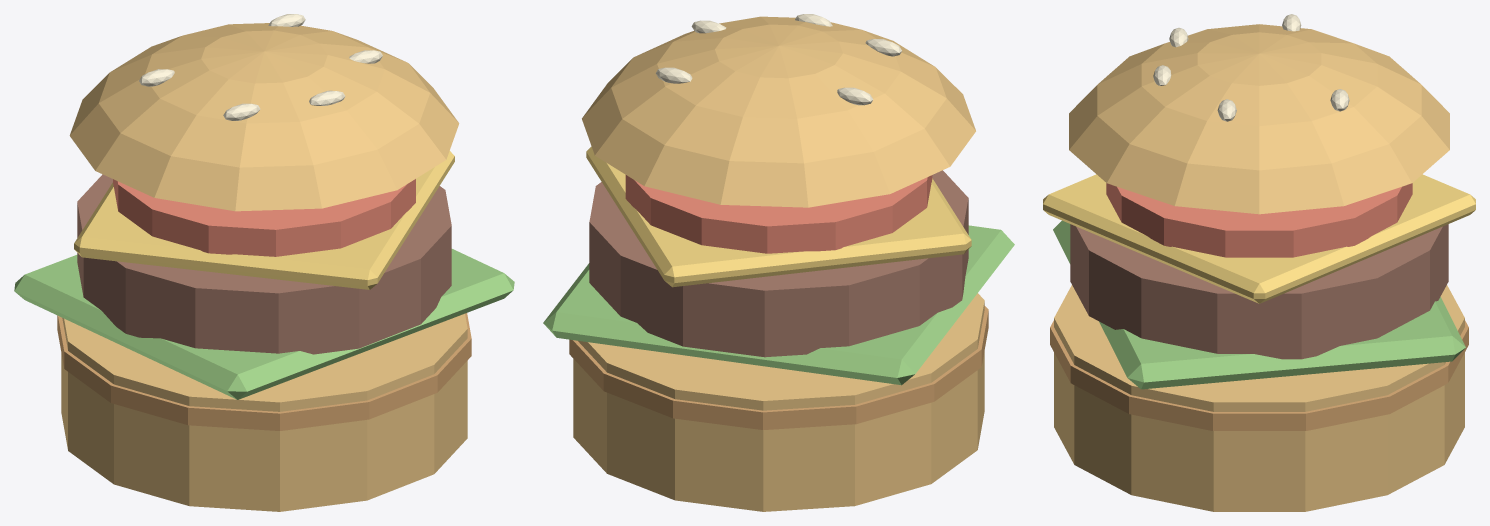
The model's file is Burger.glb.
The picture shows the model from 3 angles, left to right: view 1: azimuth 30°, elevation 25°; view 2: azimuth 150°, elevation 25°; view 3: azimuth 270°, elevation 25°; orthographic projection.
Visible parts, largest first — view 1: Visual; view 2: Visual; view 3: Visual.
Boxes of the visible parts, x1,y1,x2,y2 form: Visual: [14, 14, 514, 511]; Visual: [543, 14, 1014, 511]; Visual: [1043, 14, 1475, 511].
Size of the model in its own units: 0.5516 by 0.512 by 0.5374.
